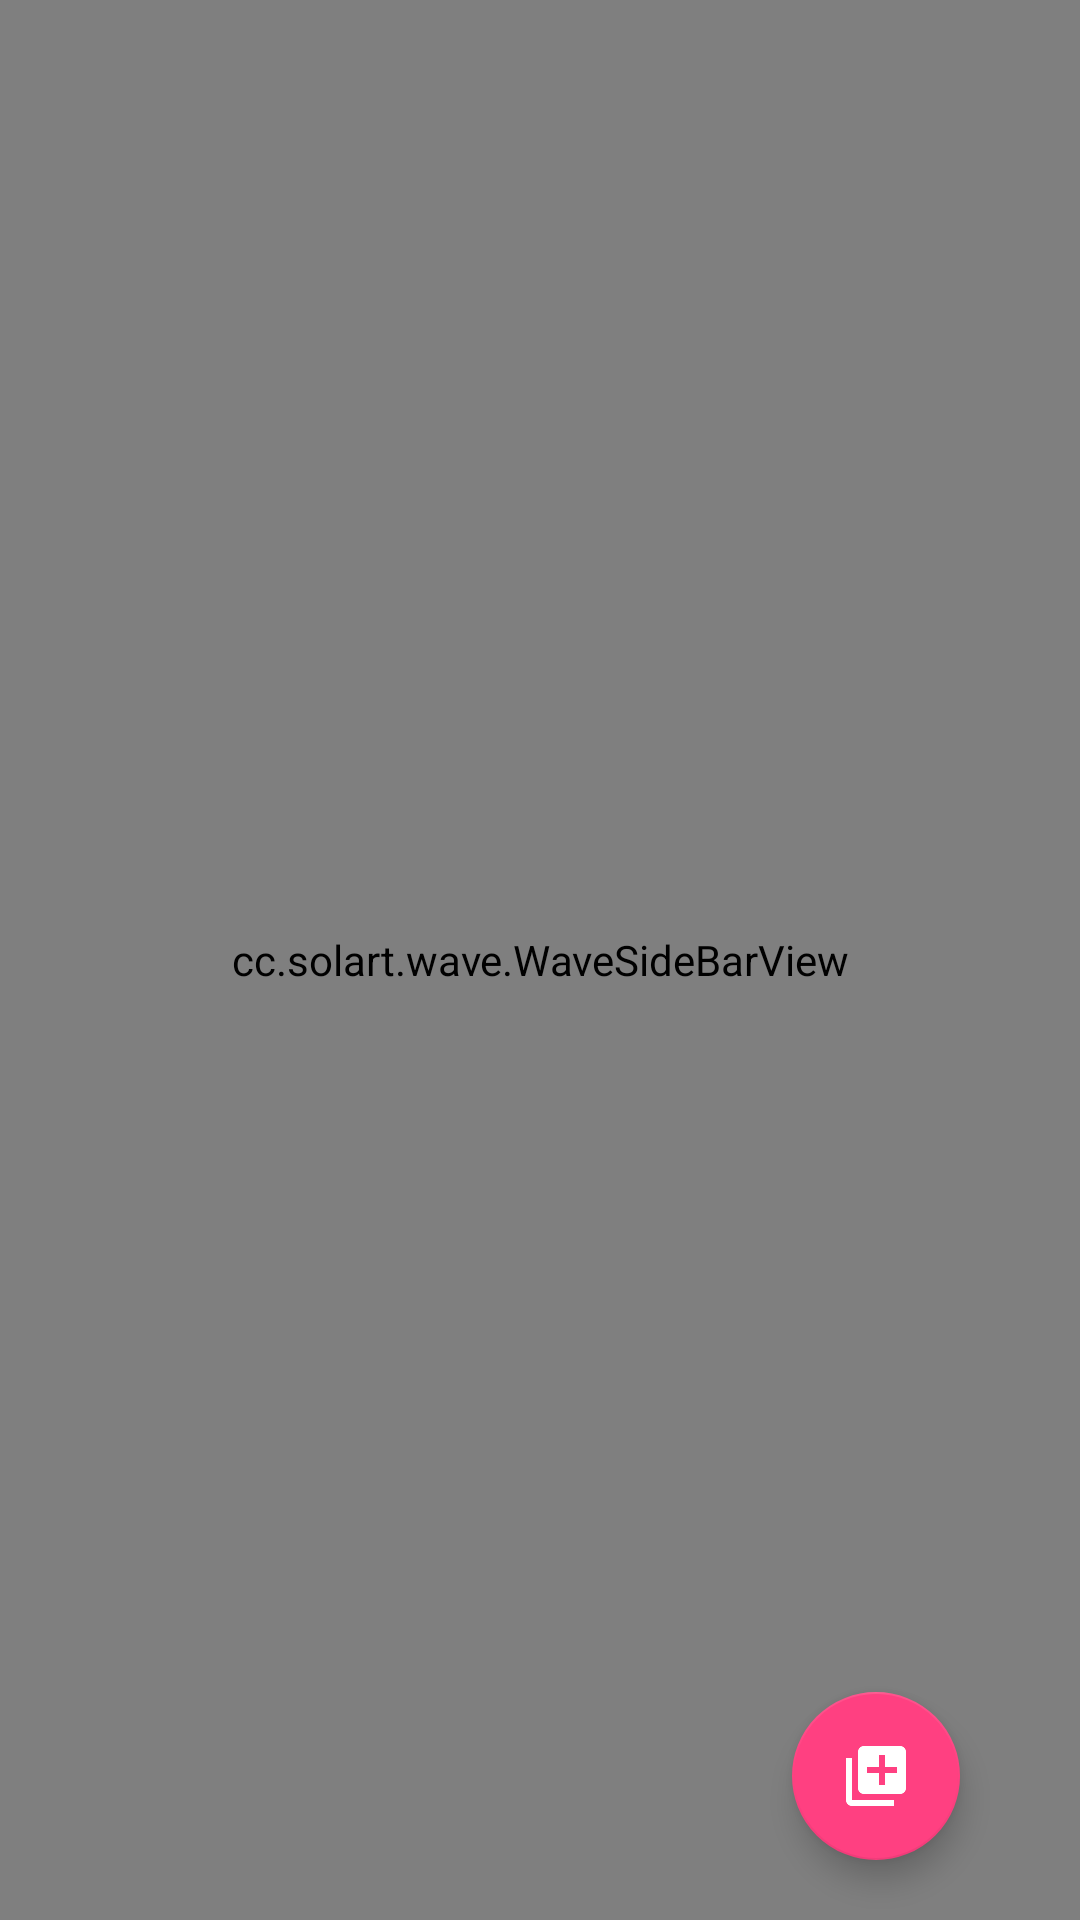

Locate icon controls on the screen. Image size 1080*1920, boxes as (x1, y1, x2, y2).
library add: (792, 1692, 960, 1860)
